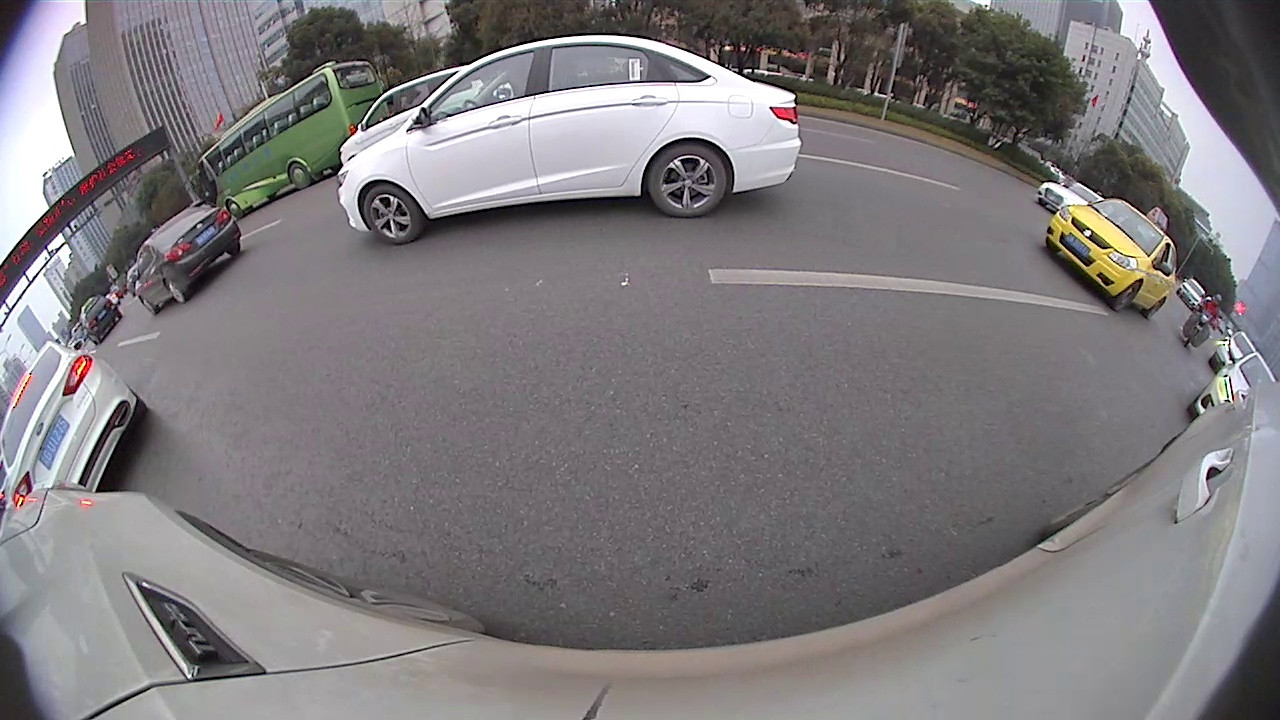bus: (203, 62, 389, 213)
car: (341, 34, 802, 243), (2, 343, 148, 505), (1043, 200, 1176, 316), (337, 64, 479, 159), (137, 203, 243, 314), (1193, 353, 1278, 421), (1185, 292, 1224, 353), (1037, 181, 1104, 214), (80, 291, 123, 340), (1217, 333, 1257, 374)
front: (363, 183, 422, 244), (1113, 280, 1140, 313)
rear: (647, 143, 728, 217), (163, 277, 188, 303), (289, 162, 311, 188)
